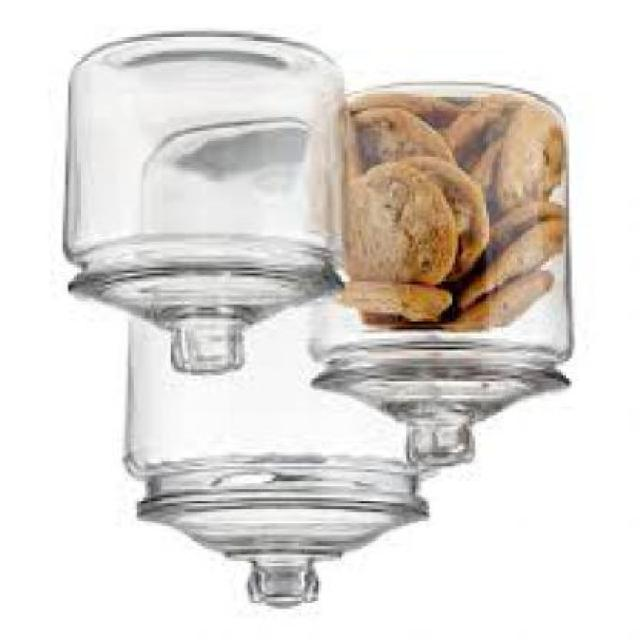BIODEGRADABLE: (372, 158, 492, 284), (344, 173, 458, 293), (461, 224, 568, 310), (501, 112, 572, 216), (358, 112, 460, 179), (353, 105, 461, 167), (447, 281, 558, 333), (492, 205, 566, 270), (338, 284, 458, 322), (444, 106, 518, 162), (345, 104, 372, 188), (469, 152, 506, 213), (480, 111, 514, 160), (364, 316, 441, 333)
GLASS: (128, 288, 442, 614), (310, 88, 575, 469), (62, 34, 347, 378)
